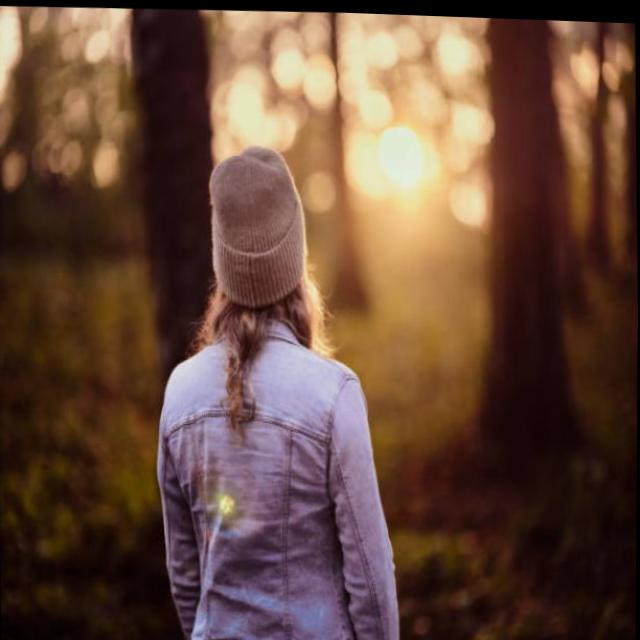no helmet: (188, 131, 334, 359)
